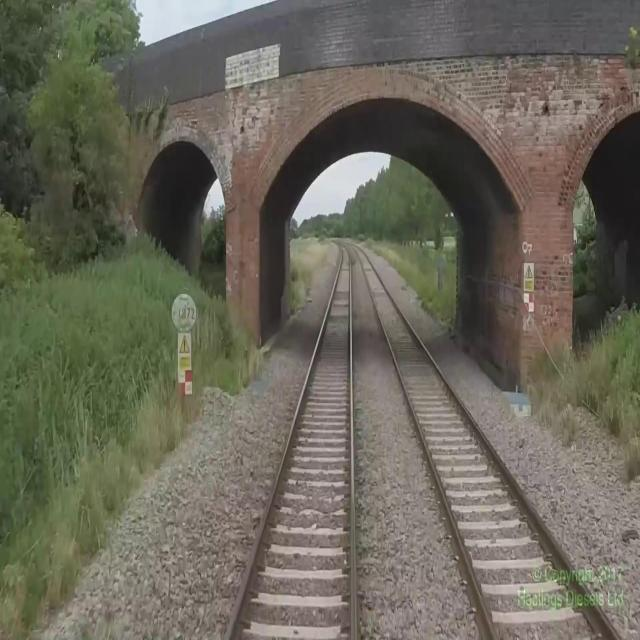rail-track: (352, 245, 616, 639), (229, 245, 351, 639)
